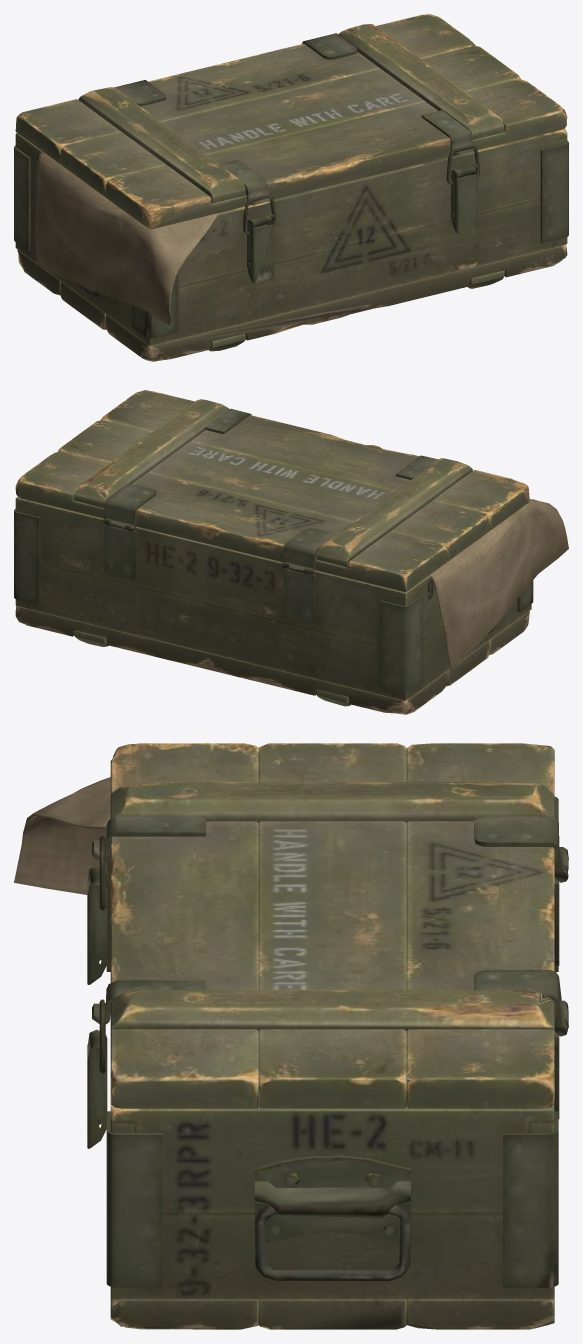
File: old-military-crate.glb
3 views of the same model, one above another, from view 1: azimuth 30°, elevation 25°; view 2: azimuth 150°, elevation 25°; view 3: azimuth 270°, elevation 25° (orthographic). The views are drawn at different scales.
Visible parts, largest first — view 1: old_military_crate; view 2: old_military_crate; view 3: old_military_crate.
Part boxes in pixels (left/top/right/bottom): old_military_crate: left=14, top=14, right=568, bottom=361; old_military_crate: left=14, top=390, right=568, bottom=714; old_military_crate: left=14, top=743, right=568, bottom=1329.
Bounding box in the file's own units: 0.8153 × 0.301 × 0.5375.
1 material, 1 textured.
